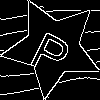P: (27, 22, 77, 78)
